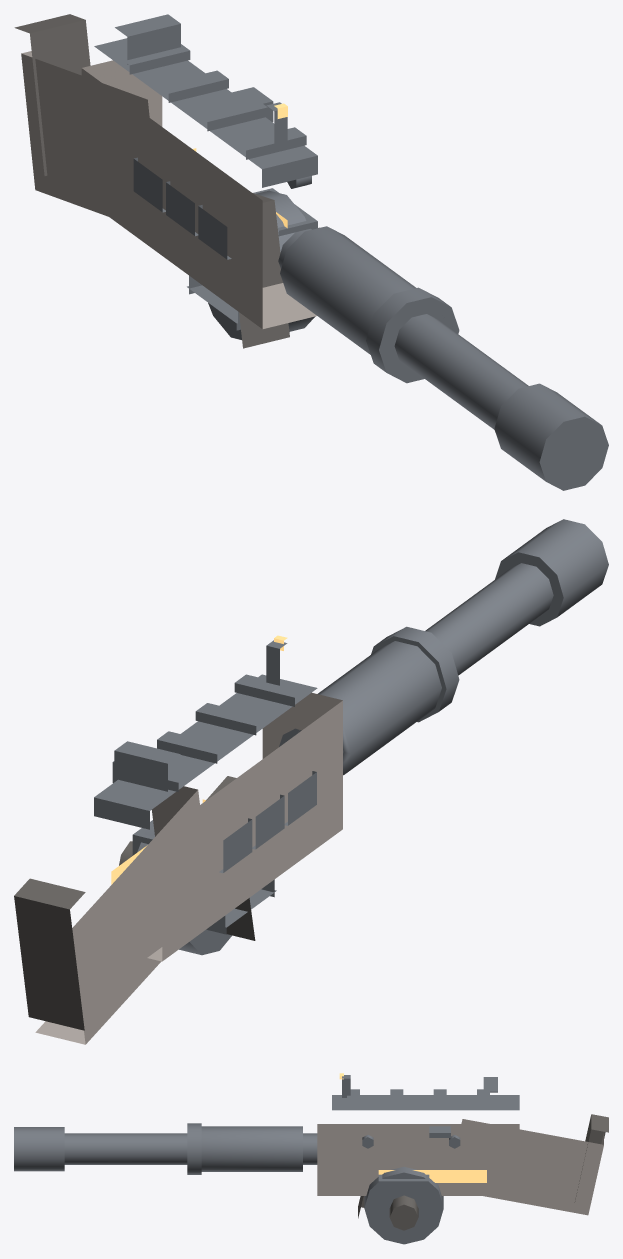
File: SM_Weapon_ScrapRifle.glb
The picture shows the model from 3 angles, top to bottom: view 1: azimuth 30°, elevation 25°; view 2: azimuth 150°, elevation 25°; view 3: azimuth 270°, elevation 25°; orthographic projection. The views are drawn at different scales.
Parts seen in each view (by area): view 1: SM_Weapon_ScrapRifle; view 2: SM_Weapon_ScrapRifle; view 3: SM_Weapon_ScrapRifle.
Part boxes in pixels (x1,y1,x2,y2): SM_Weapon_ScrapRifle: (14,14,608,490); SM_Weapon_ScrapRifle: (14,519,608,1044); SM_Weapon_ScrapRifle: (14,1073,608,1244).
Size of the model in its own units: 0.125 by 0.2335 by 0.8237.
